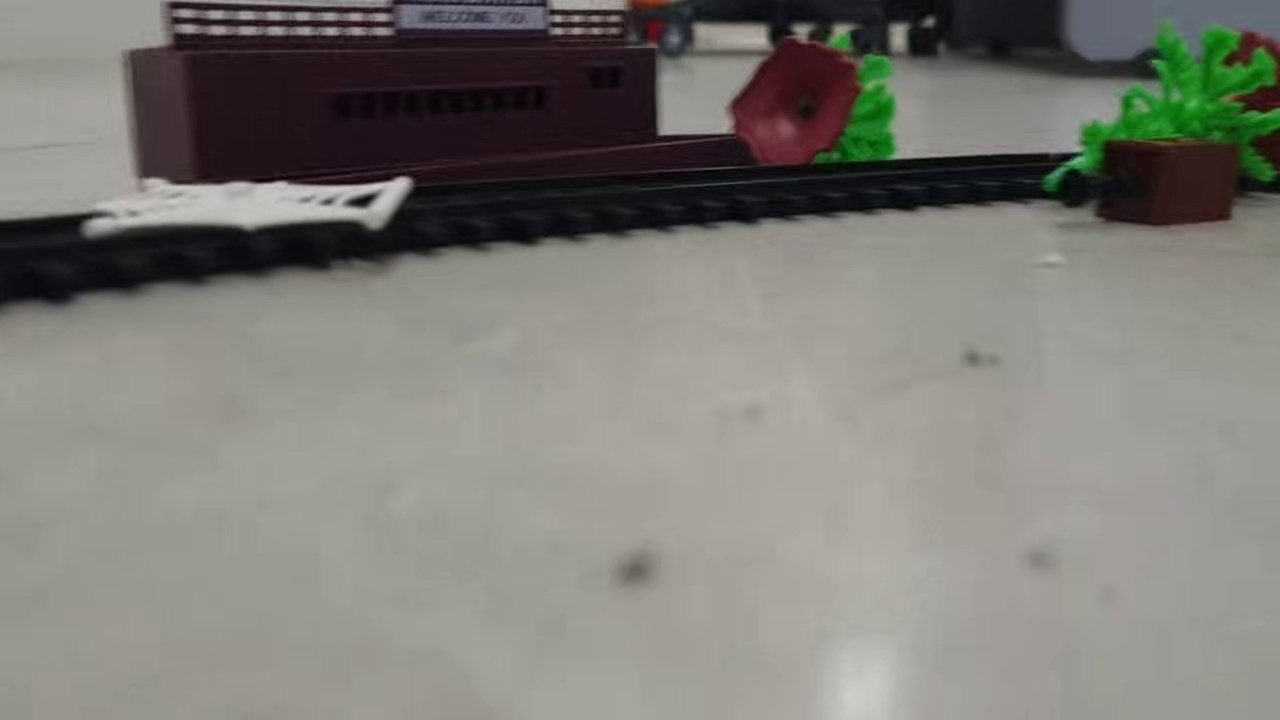box: (1058, 136, 1243, 231)
tree: (1044, 15, 1280, 190), (726, 33, 903, 166)
web: (81, 173, 420, 233)
